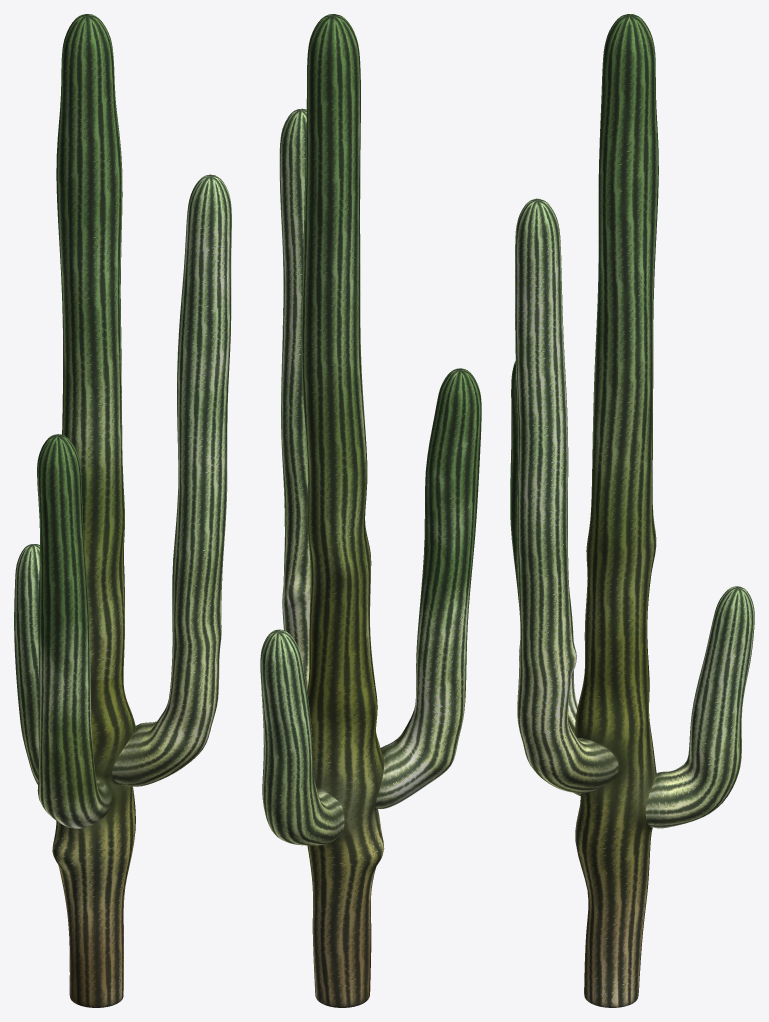
File: Cactus.obj
3 views of the same model, side by side, from view 1: azimuth 30°, elevation 25°; view 2: azimuth 150°, elevation 25°; view 3: azimuth 270°, elevation 25° (orthographic).
Parts seen in each view (by area): view 1: 10436_Cactus_v1_max2010_it2; view 2: 10436_Cactus_v1_max2010_it2; view 3: 10436_Cactus_v1_max2010_it2.
Boxes of the visible parts, box(x1,y1,x2,y2) form: 10436_Cactus_v1_max2010_it2: box(14, 14, 231, 1007); 10436_Cactus_v1_max2010_it2: box(260, 14, 481, 1007); 10436_Cactus_v1_max2010_it2: box(510, 14, 754, 1007).
Size of the model in its own units: 2.98 by 14.5 by 3.27.
1 material, 1 textured.
